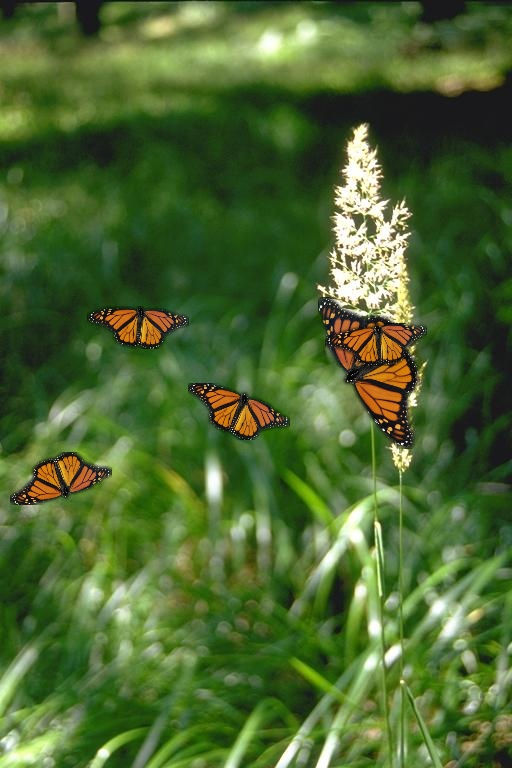danaus_plexippus: (318, 297, 420, 449), (188, 383, 290, 440), (10, 452, 112, 505), (87, 306, 189, 349), (325, 323, 427, 366)
